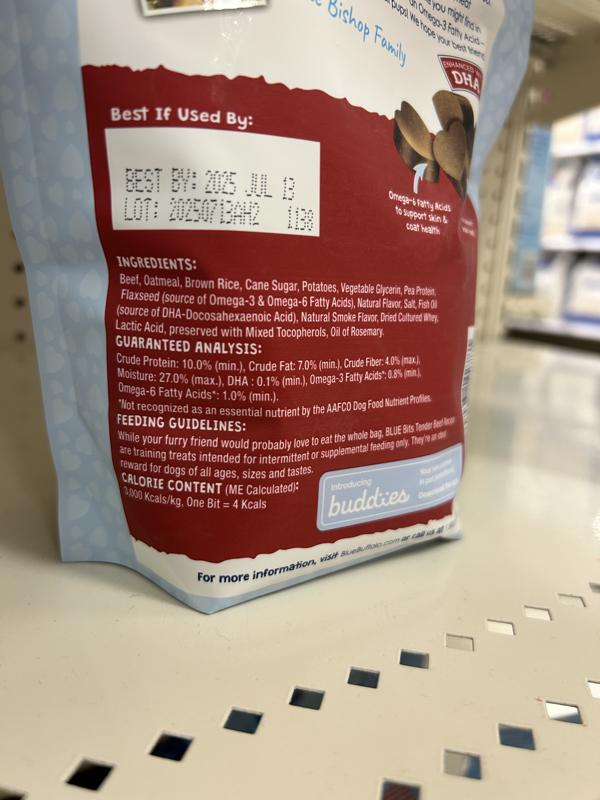ingredients: (110, 252, 443, 340)
